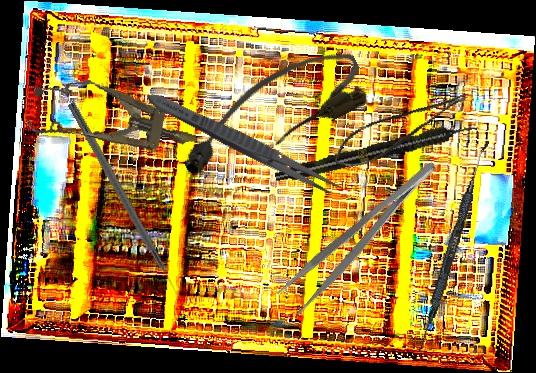Cannula: (166, 38, 375, 188)
Dressing Forceps: (273, 156, 452, 319), (143, 86, 347, 202)
Handpiece: (273, 118, 479, 187)
Hook Surgical: (65, 100, 185, 303)
Micro Scissor: (327, 88, 477, 175)
Spatula Surgical: (416, 137, 490, 355)
Speculum: (24, 68, 203, 172)
